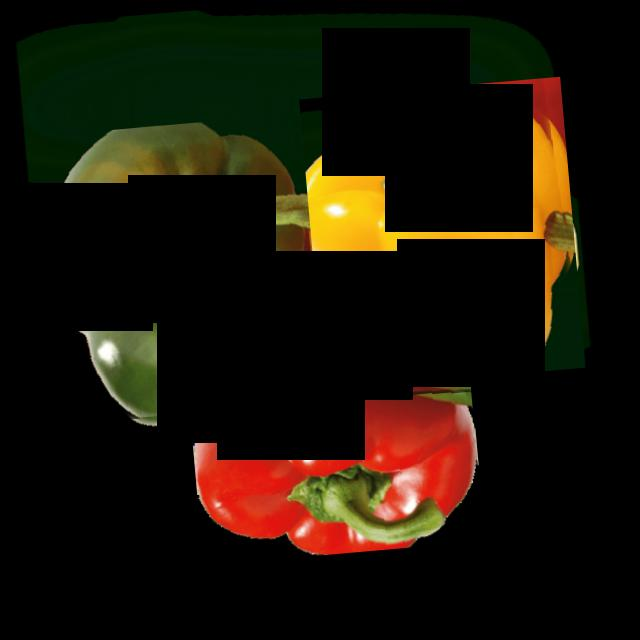pepper: (29, 111, 342, 432), (299, 76, 585, 390), (188, 374, 484, 565)
